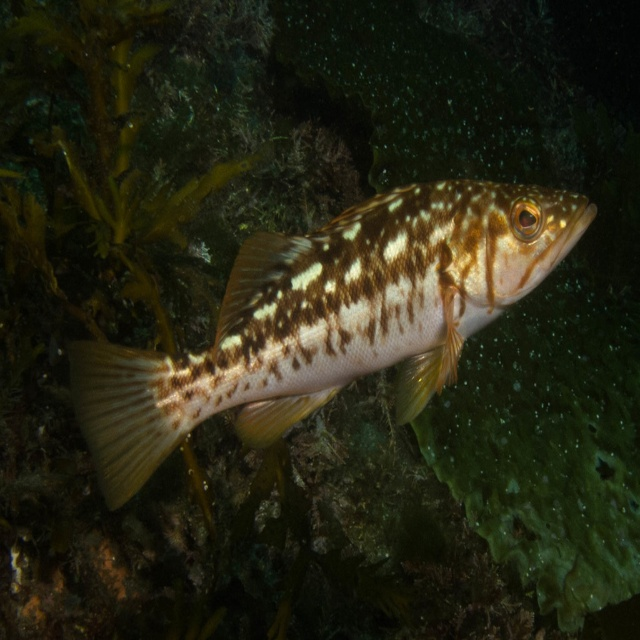Fish: (67, 145, 598, 511)
